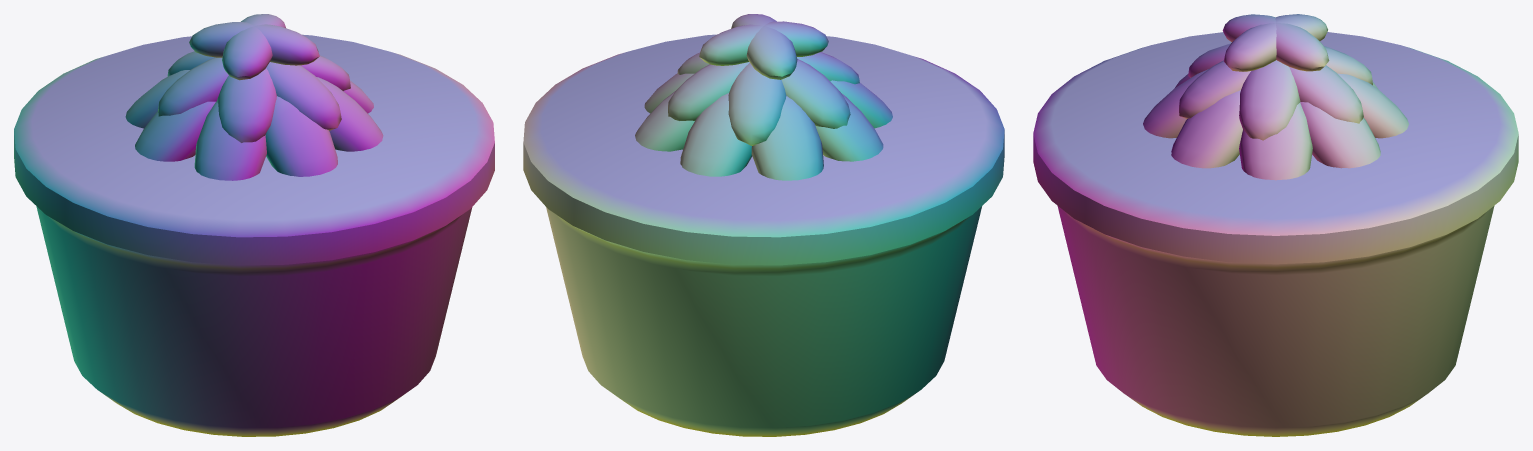
File: env_pot.glb
3 renders of one model, left to right at view 1: azimuth 30°, elevation 25°; view 2: azimuth 150°, elevation 25°; view 3: azimuth 270°, elevation 25°, orthographic.
Parts seen in each view (by area): view 1: env_pot_mesh; view 2: env_pot_mesh; view 3: env_pot_mesh.
Part boxes in pixels (x1,y1,x2,y2): env_pot_mesh: (14, 14, 494, 436); env_pot_mesh: (523, 14, 1004, 436); env_pot_mesh: (1033, 14, 1518, 436).
Bounding box in the file's own units: 0.9328 × 0.7347 × 0.9328.
